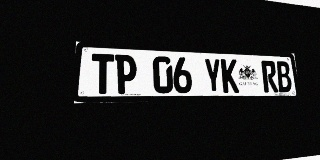0: (152, 56, 173, 94)
6: (172, 57, 192, 93)
B: (275, 61, 293, 92)
K: (220, 59, 239, 93)
P: (115, 54, 137, 94)
R: (261, 60, 278, 92)
T: (91, 53, 114, 94)
Y: (203, 58, 222, 93)
